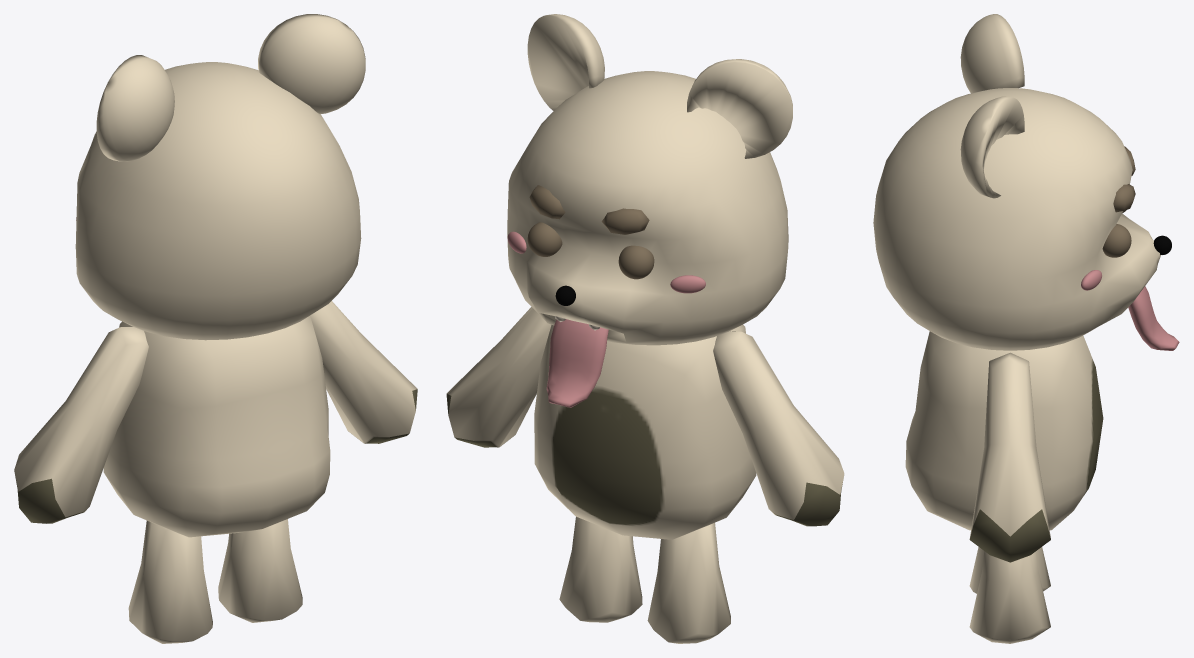
The model's file is playerWhite.obj.
3 views of the same model, side by side, from view 1: azimuth 30°, elevation 25°; view 2: azimuth 150°, elevation 25°; view 3: azimuth 270°, elevation 25° (orthographic). The views are drawn at different scales.
Parts seen in each view (by area): view 1: 球; view 2: 球; view 3: 球.
Part boxes in pixels (x1=…): 球: x1=14, y1=14, x2=417, y2=643; 球: x1=446, y1=14, x2=844, y2=643; 球: x1=873, y1=14, x2=1179, y2=643.
Size of the model in its own units: 2.82 by 4.04 by 2.01.
